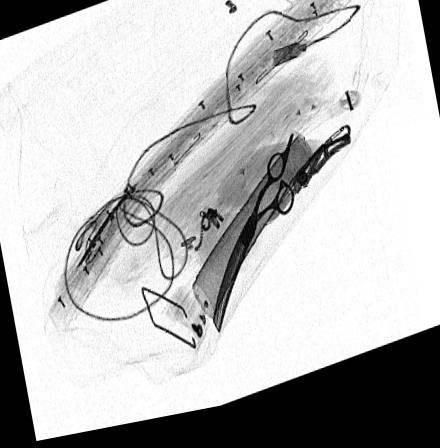Knife: (266, 137, 350, 232)
Scissors: (210, 141, 294, 342)
